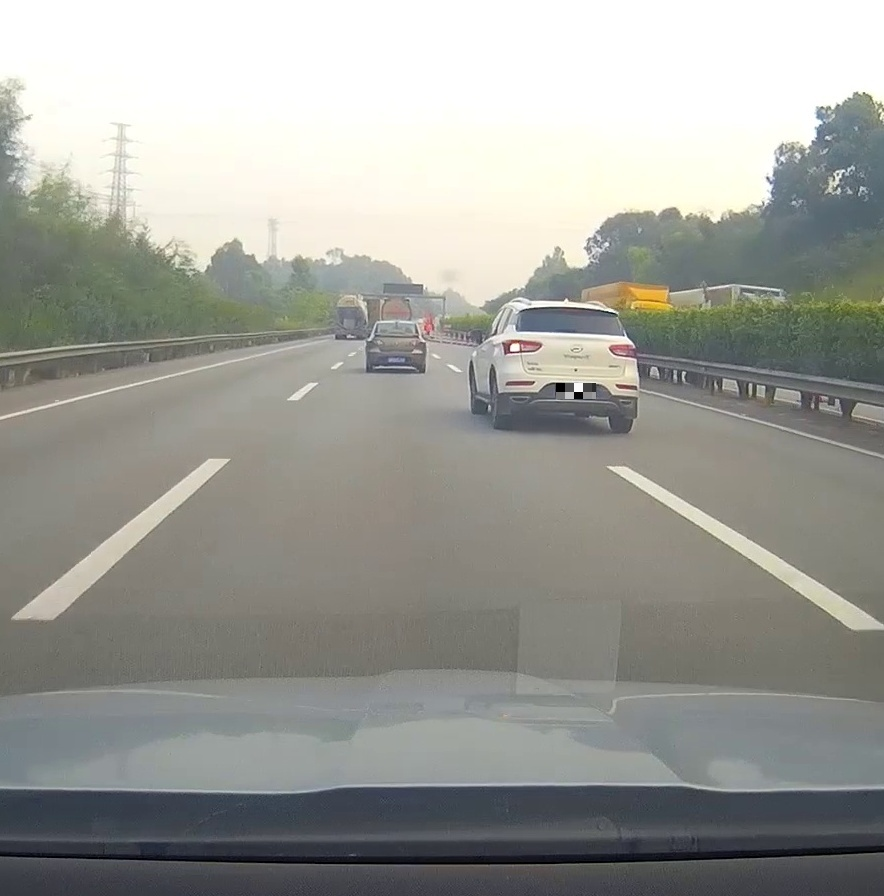L_light: (502, 339, 543, 355), (367, 339, 384, 346)
R_light: (608, 343, 637, 359), (409, 340, 426, 347)
T_light: (564, 308, 585, 313), (389, 323, 402, 327)
day-left: (500, 301, 639, 433)
day-no: (365, 321, 427, 374)
plate_1: (556, 383, 596, 399)
